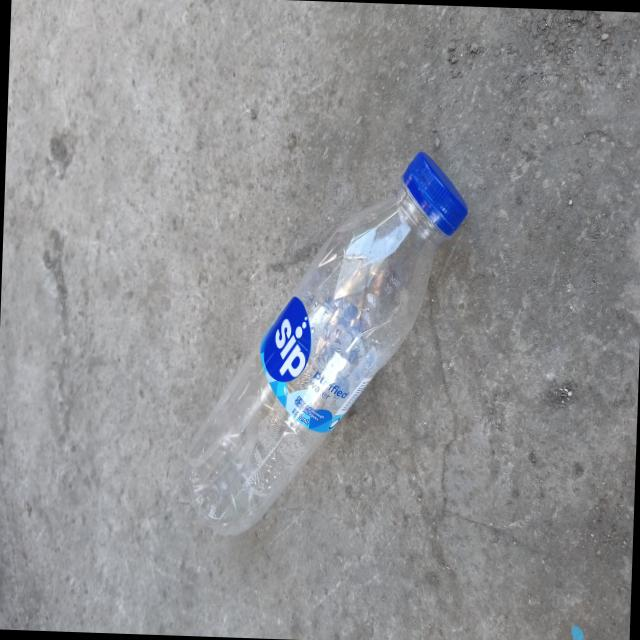Bottle: (183, 150, 469, 536)
